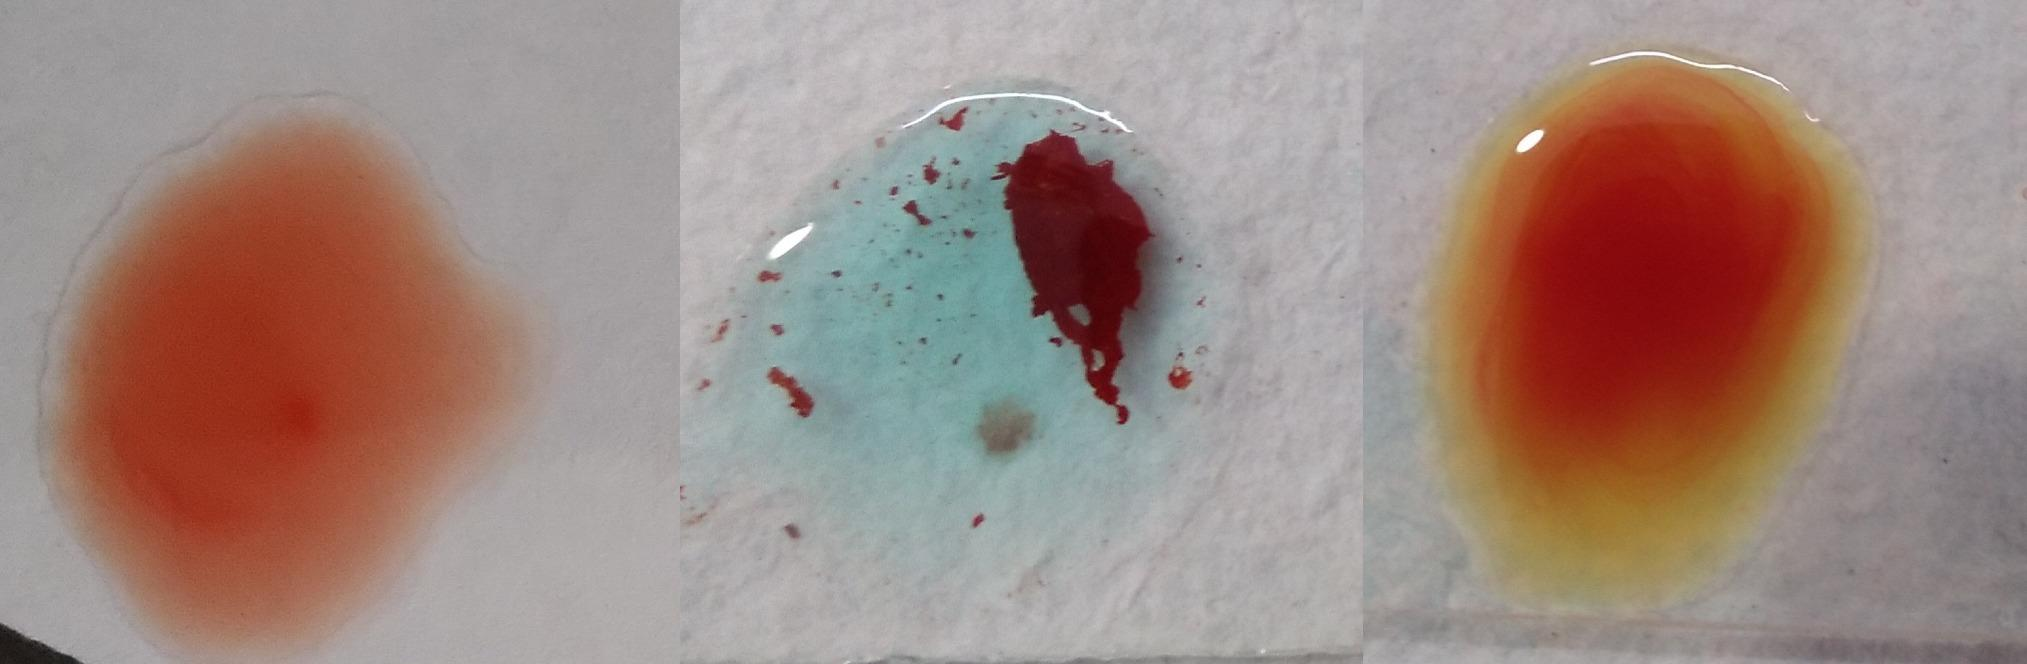A: (706, 79, 1245, 579)
